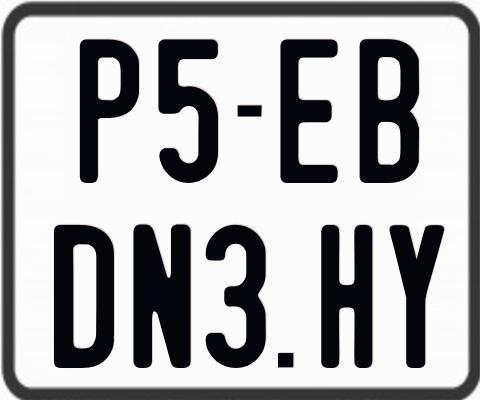3: (203, 222, 263, 367)
5: (157, 36, 219, 186)
B: (359, 39, 424, 187)
D: (52, 225, 112, 368)
E: (277, 38, 335, 183)
H: (321, 222, 375, 365)
N: (132, 224, 196, 373)
P: (79, 37, 140, 183)
Y: (390, 225, 448, 369)
